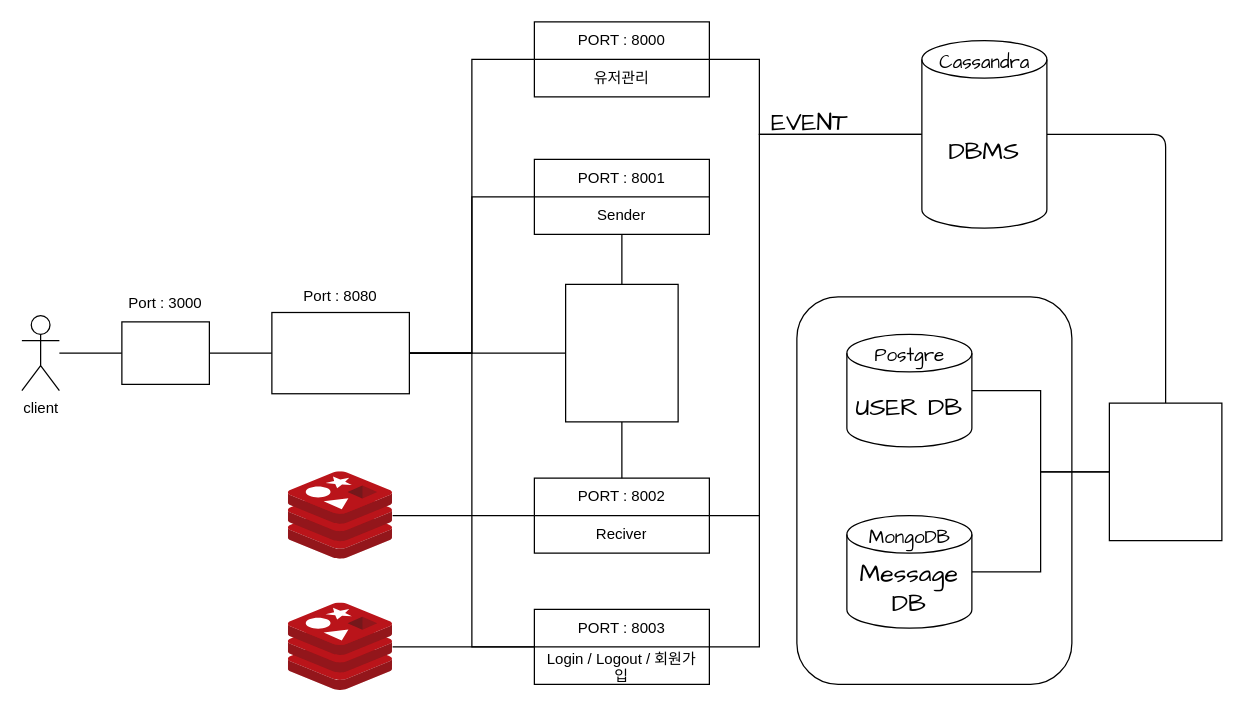
Image size: 1244x713. Some labels were removed from this diagram. Here are the shapes that lost their labels. From the top down, the centre of each, then its label:
(165,352): Front-End
(340,352): Spring Cloud Gateway
(621,352): rabbitmq
(1165,471): Kafka Cluster
